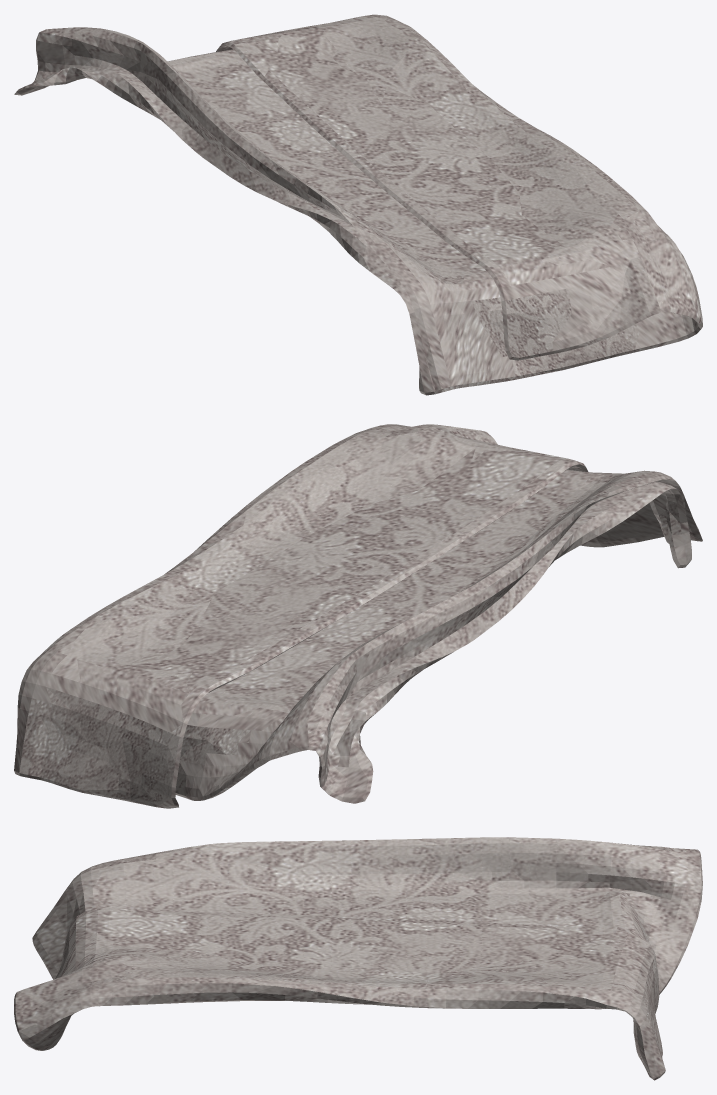
Rendered from Bed blanket.FBX.
3 renders of one model, top to bottom at view 1: azimuth 30°, elevation 25°; view 2: azimuth 150°, elevation 25°; view 3: azimuth 270°, elevation 25°, orthographic. The views are drawn at different scales.
Visible parts, largest first — view 1: Bed blanket; view 2: Bed blanket; view 3: Bed blanket.
Boxes of the visible parts, bbox=[...] form: Bed blanket: bbox=[14, 14, 702, 395]; Bed blanket: bbox=[14, 424, 702, 808]; Bed blanket: bbox=[14, 837, 702, 1080].
Size of the model in its own units: 118 by 233 by 48.95.
1 material, 1 textured.
